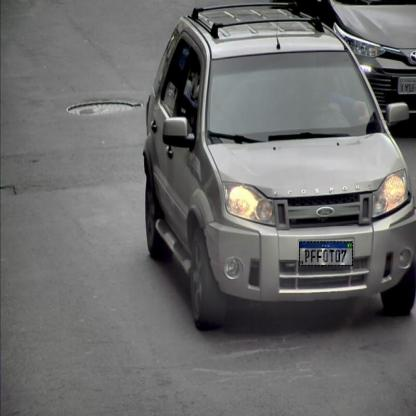PlacaM: (299, 242, 353, 266)
